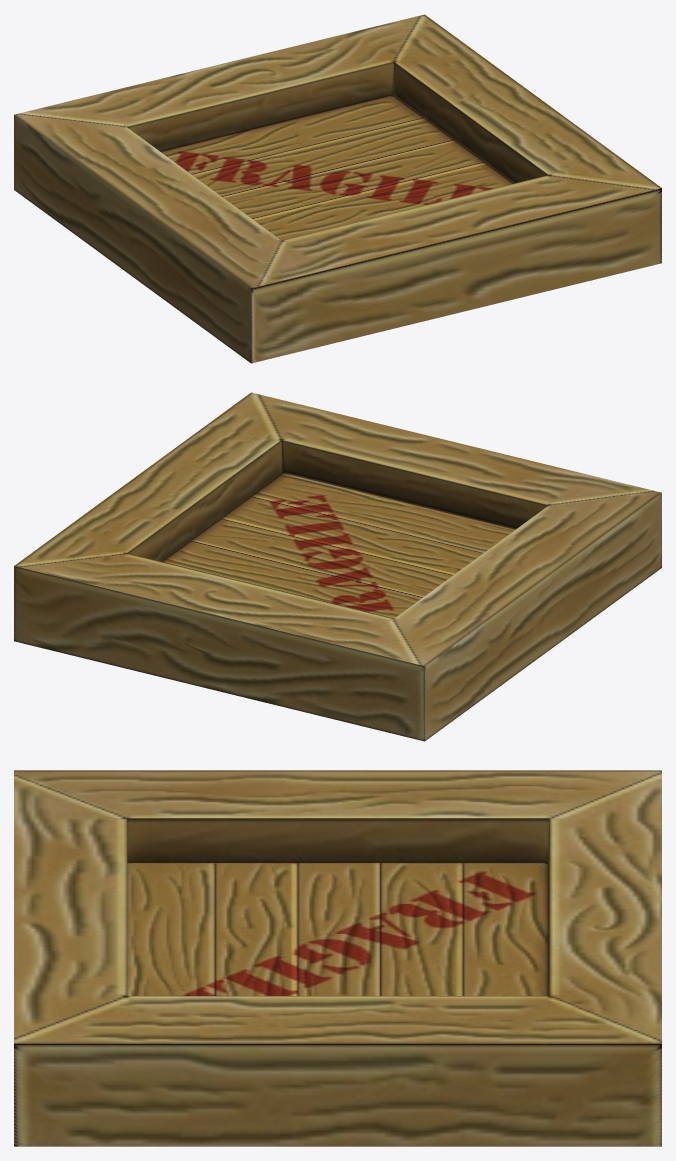
File: cratel lid.fbx
3 views of the same model, one above another, from view 1: azimuth 30°, elevation 25°; view 2: azimuth 150°, elevation 25°; view 3: azimuth 270°, elevation 25° (orthographic). The views are drawn at different scales.
Visible parts, largest first — view 1: polySurface2; view 2: polySurface2; view 3: polySurface2.
Boxes of the visible parts, x1,y1,x2,y2 form: polySurface2: [14, 14, 661, 363]; polySurface2: [14, 392, 661, 741]; polySurface2: [14, 770, 661, 1146].
Bounding box in the file's own units: 2 × 0.35 × 2.
